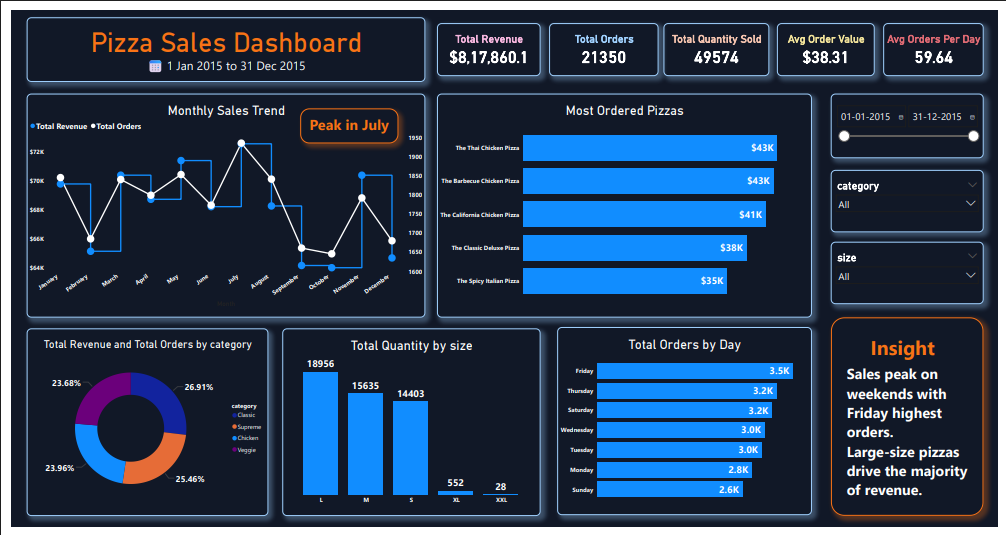

Layout of this report page (visuals, bound fields, positions):
{"tool":"powerbi","page":{"name":"Page 1","canvas":[2200,1150],"ordinal":0},"visuals":[{"type":"shape","box":[1827.5,682.5,340,442.5],"z":0},{"type":"lineChart","title":"Monthly Sales Trend","fields":{"Y2":["order_details.Total Orders"],"Y":["order_details.Total Revenue"],"Category":["Date Table.Date.Variation.Date Hierarchy.Month"]},"box":[35,185,887.5,497.5],"z":1000},{"type":"card","title":"Total Orders","fields":{"Values":["Count(order_details.order_id)"]},"box":[1200,27.5,242.5,117.5],"z":2000},{"type":"barChart","title":"Most Ordered Pizzas","fields":{"Category":["pizza_types.name"],"Y":["order_details.Total Revenue"]},"box":[950,185,835,497.5],"z":3000},{"type":"card","title":"Total Revenue","fields":{"Values":["order_details.Total Revenue"]},"box":[950,27.5,230,117.5],"z":4000},{"type":"donutChart","fields":{"Category":["pizza_types.category"],"Y":["order_details.Total Revenue"]},"box":[35,707.5,537.5,417.5],"z":5000},{"type":"card","title":"Total Quantity Sold","fields":{"Values":["order_details.Total Quantity"]},"box":[1455,27.5,235,117.5],"z":6000},{"type":"columnChart","fields":{"Category":["pizzas.size"],"Y":["order_details.Total Quantity"]},"box":[605,707.5,575,417.5],"z":7000},{"type":"card","title":"Avg Order Value","fields":{"Values":["order_details.Avg Order Value"]},"box":[1707.5,27.5,217.5,117.5],"z":8000},{"type":"shape","title":"Pizza Sales Dashboard","box":[35,15,887.5,142.5],"z":9000},{"type":"barChart","fields":{"Category":["Date Table.Day Name"],"Y":["order_details.Total Orders"]},"box":[1217.5,705,567.5,417.5],"z":10000},{"type":"slicer","fields":{"Values":["pizza_types.category"]},"box":[1827.5,355,340,137.5],"z":11000},{"type":"slicer","fields":{"Values":["pizzas.size"]},"box":[1827.5,515,340,137.5],"z":12000},{"type":"textbox","box":[645,217.5,217.5,77.5],"z":13000},{"type":"slicer","fields":{"Values":["orders.date"]},"box":[1827.5,185,340,142.5],"z":14000},{"type":"group","id":"g1","title":"Group 1","box":[1837.5,697.5,320,415],"z":15000},{"type":"textbox","box":[1857.5,765,300,347.5],"z":15000,"group":"g1"},{"type":"card","title":"Avg Orders Per Day","fields":{"Values":["orders.Avg Orders per Day"]},"box":[1945,27.5,222.5,117.5],"z":16000},{"type":"shape","box":[1837.5,697.5,300,102.5],"z":16000,"group":"g1"}]}

Visuals, with their boxes in screenshot pixels (x1, y1, x2, y2), scaled from the page's 2200x1150 canvas onto the 1006x535 screenshot:
shape: box(836, 318, 991, 523)
"Monthly Sales Trend" lineChart: box(16, 86, 422, 318)
"Total Orders" card: box(549, 13, 660, 67)
"Most Ordered Pizzas" barChart: box(434, 86, 816, 318)
"Total Revenue" card: box(434, 13, 540, 67)
donutChart - pizza_types.category x order_details.Total Revenue: box(16, 329, 262, 523)
"Total Quantity Sold" card: box(665, 13, 773, 67)
columnChart - pizzas.size x order_details.Total Quantity: box(277, 329, 540, 523)
"Avg Order Value" card: box(781, 13, 880, 67)
"Pizza Sales Dashboard" shape: box(16, 7, 422, 73)
barChart - Date Table.Day Name x order_details.Total Orders: box(557, 328, 816, 522)
slicer - pizza_types.category: box(836, 165, 991, 229)
slicer - pizzas.size: box(836, 240, 991, 304)
textbox: box(295, 101, 394, 137)
slicer - orders.date: box(836, 86, 991, 152)
"Group 1" group: box(840, 324, 987, 518)
textbox: box(849, 356, 987, 518)
"Avg Orders Per Day" card: box(889, 13, 991, 67)
shape: box(840, 324, 977, 372)
